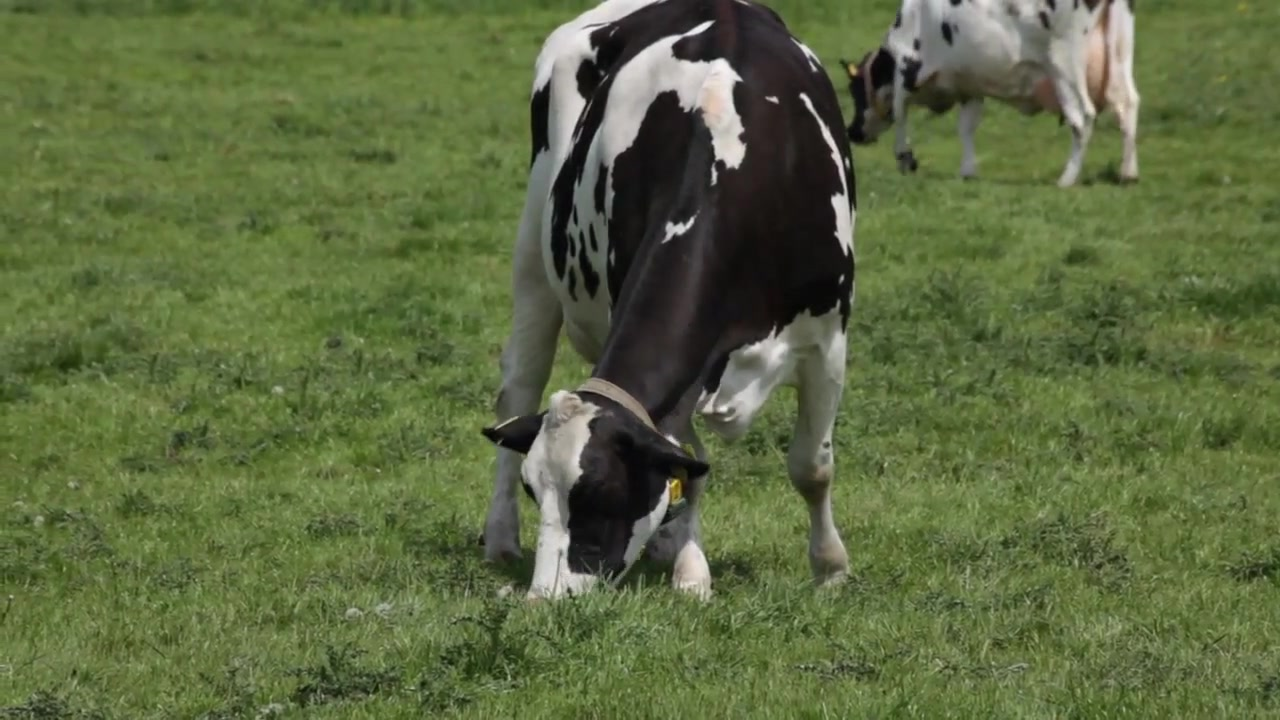cow: (484, 2, 859, 608)
